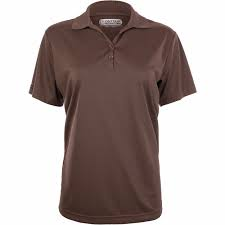C_polo shirt: (26, 7, 196, 225)
